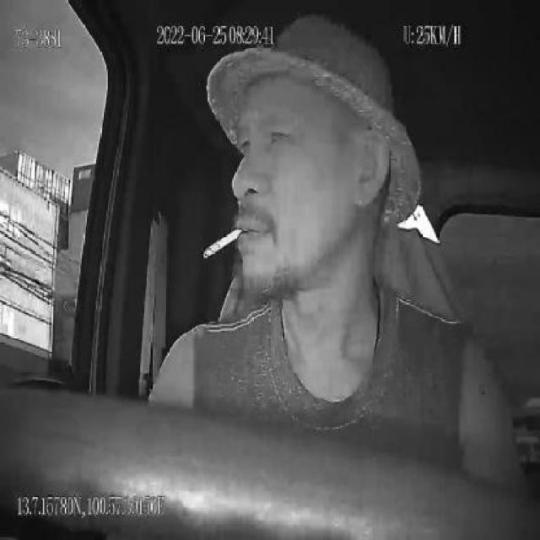smoking: (201, 225, 245, 259)
